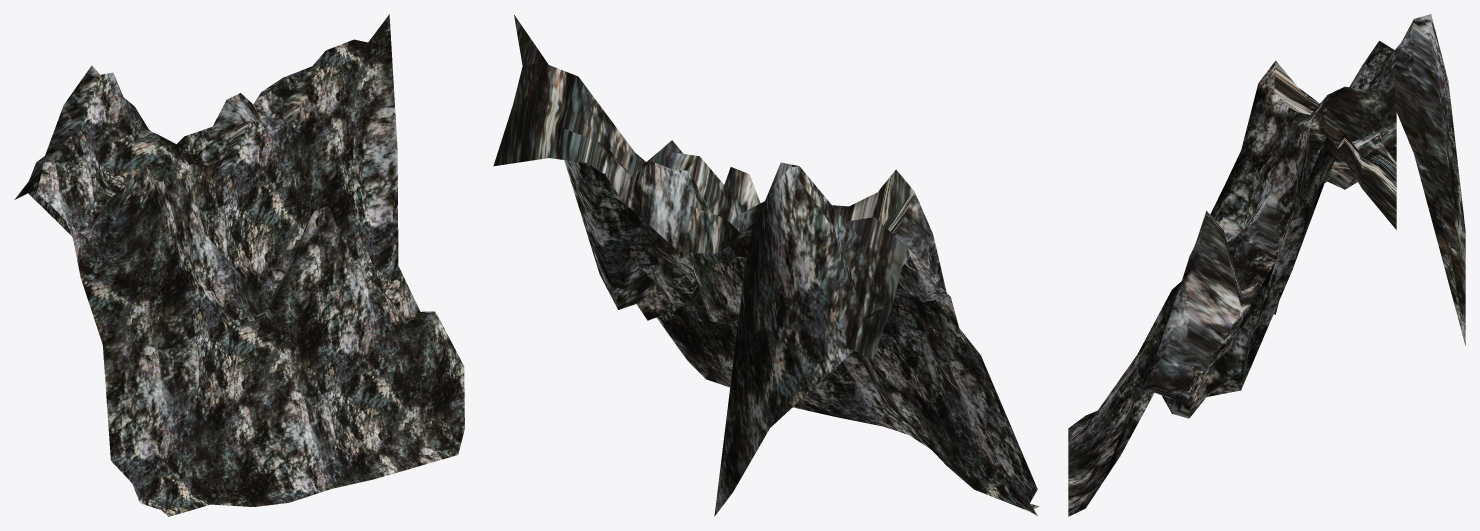
Rendered from OVERHILL_A_01_OBJECT13.fbx.
The picture shows the model from 3 angles, left to right: view 1: azimuth 30°, elevation 25°; view 2: azimuth 150°, elevation 25°; view 3: azimuth 270°, elevation 25°; orthographic projection. The views are drawn at different scales.
Visible parts, largest first — view 1: OVERHILL_A_01_OBJECT13; view 2: OVERHILL_A_01_OBJECT13; view 3: OVERHILL_A_01_OBJECT13.
Boxes of the visible parts, <box> form: OVERHILL_A_01_OBJECT13: <box>14,14,464,516</box>; OVERHILL_A_01_OBJECT13: <box>493,15,1038,516</box>; OVERHILL_A_01_OBJECT13: <box>1068,14,1465,516</box>.
Bounding box in the file's own units: 328786 × 337078 × 286701.
1 material, 1 textured.
